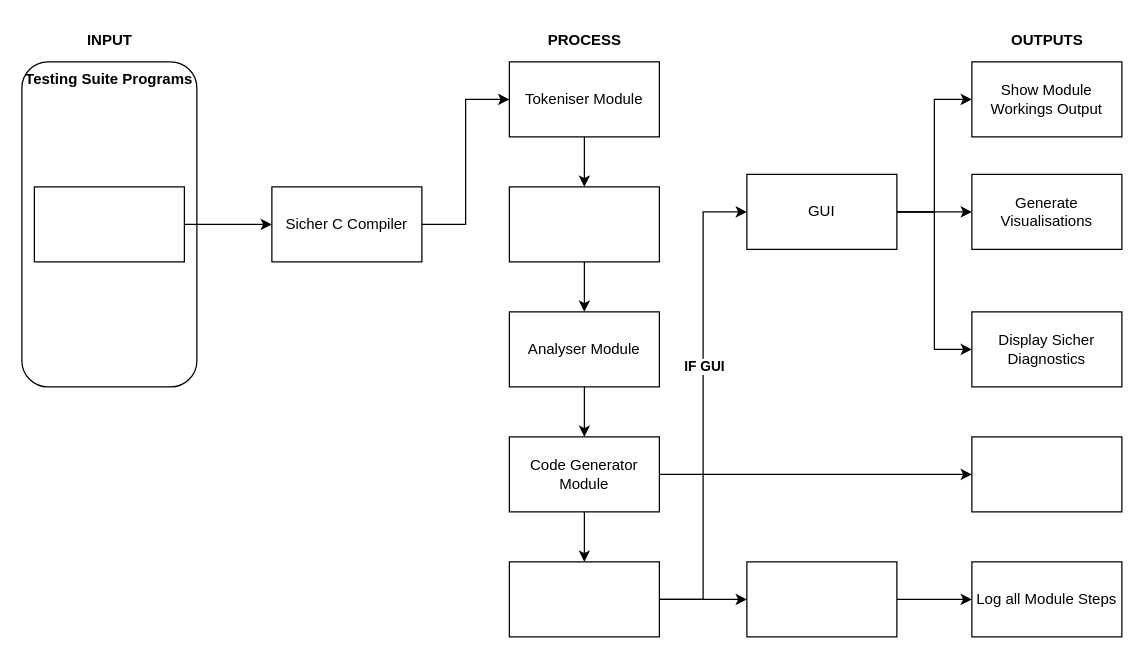
The diagram is 1144 pixels wide and 659 high, and some of its shapes have lost their labels. The box of each missing label's shape, as (x1, y1, x2, y2) in pixels:
CLI: (746, 561, 897, 637)
Generate Binary: (971, 436, 1122, 512)
Input C source file: (33, 186, 184, 262)
Parser Module: (508, 186, 659, 262)
Visualiser Module: (508, 561, 659, 637)
